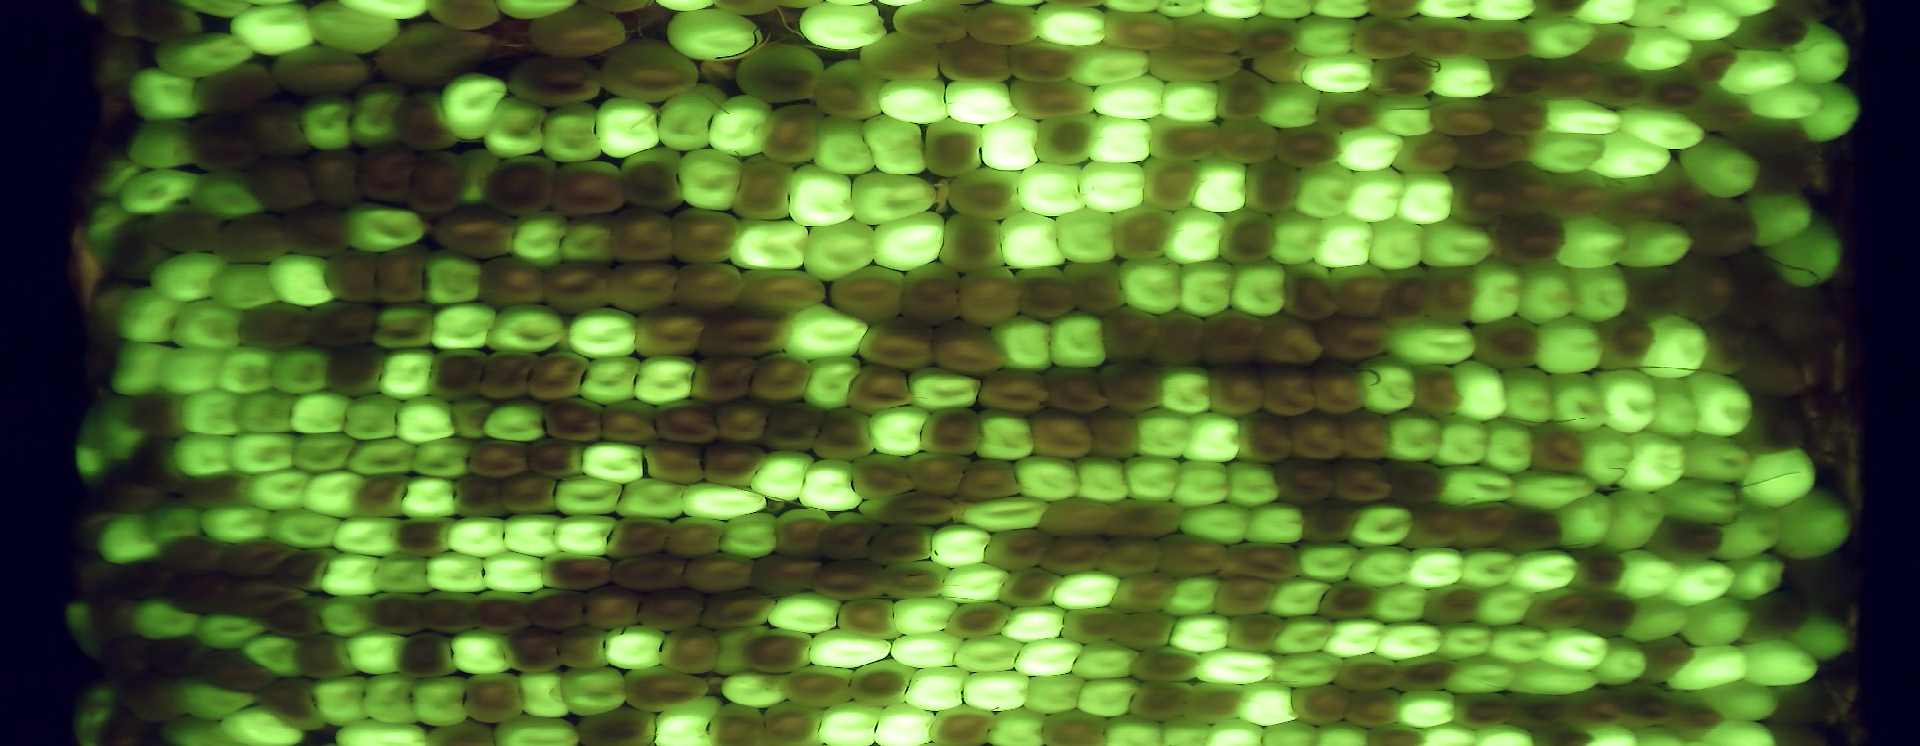fluorescent: (1767, 484, 1855, 567), (1766, 206, 1847, 294), (665, 5, 775, 67), (438, 64, 516, 151), (1734, 441, 1824, 512), (651, 75, 729, 158), (1678, 132, 1764, 206), (776, 299, 869, 367), (225, 1, 329, 62), (1706, 494, 1795, 565), (148, 23, 257, 81), (300, 1, 409, 59), (336, 197, 433, 258), (849, 167, 940, 230), (726, 212, 818, 276), (121, 62, 211, 127), (866, 207, 951, 274), (143, 246, 238, 307), (1596, 484, 1675, 556), (793, 1, 894, 58), (798, 218, 887, 282), (1527, 310, 1610, 377), (673, 145, 749, 218), (342, 78, 414, 156), (1611, 100, 1712, 156), (1633, 314, 1716, 381), (781, 160, 860, 230), (416, 243, 492, 314), (1682, 370, 1761, 439), (1513, 250, 1582, 328), (1464, 247, 1529, 330), (986, 307, 1060, 379), (593, 91, 669, 160), (164, 670, 264, 723), (1063, 39, 1161, 93), (1385, 314, 1483, 367), (113, 163, 206, 219), (538, 96, 609, 169), (62, 397, 118, 491), (940, 73, 1029, 132), (1551, 211, 1636, 272), (708, 89, 779, 162), (1158, 198, 1231, 269), (860, 111, 933, 181), (996, 205, 1069, 274), (1584, 129, 1678, 184), (873, 69, 955, 131), (1613, 216, 1700, 274), (111, 283, 189, 349), (1505, 467, 1604, 518), (562, 303, 643, 365), (1044, 301, 1116, 372), (481, 92, 553, 162), (1593, 364, 1660, 439), (1116, 250, 1191, 316), (1785, 13, 1851, 89), (262, 247, 340, 311), (185, 164, 269, 223), (1714, 44, 1802, 100), (811, 109, 880, 180), (1073, 156, 1153, 217), (1051, 207, 1127, 272), (1665, 639, 1755, 695), (80, 191, 140, 273), (122, 111, 204, 171), (1616, 428, 1693, 491), (165, 296, 249, 355), (53, 597, 114, 676), (504, 207, 577, 274), (804, 626, 904, 675), (1084, 71, 1176, 124), (87, 390, 151, 465), (1675, 429, 1761, 485), (1015, 159, 1093, 220), (790, 454, 868, 516), (204, 258, 288, 316), (1351, 352, 1423, 418), (1740, 635, 1820, 695), (107, 334, 178, 401), (973, 111, 1046, 176), (1287, 159, 1359, 224), (256, 503, 349, 554), (1798, 78, 1866, 146), (676, 479, 775, 526), (1567, 255, 1633, 325), (1189, 148, 1255, 218), (1680, 595, 1758, 654), (958, 490, 1056, 537), (1640, 374, 1708, 440), (1496, 363, 1562, 431), (485, 304, 571, 356), (1299, 45, 1385, 98), (1741, 187, 1815, 249), (645, 692, 729, 746), (1418, 219, 1501, 273), (1522, 127, 1609, 179), (153, 341, 229, 399), (295, 467, 371, 526), (294, 89, 360, 157), (1543, 369, 1609, 436), (216, 698, 309, 746), (193, 499, 284, 548), (1429, 461, 1520, 510), (969, 403, 1040, 465), (556, 663, 634, 719), (862, 402, 936, 462), (223, 383, 302, 439), (1506, 657, 1605, 701), (798, 349, 866, 414), (1450, 356, 1515, 424), (1662, 479, 1749, 529), (747, 445, 818, 506), (1173, 497, 1255, 550), (92, 510, 165, 568), (137, 495, 211, 554), (1611, 545, 1685, 604), (235, 628, 310, 686), (1130, 402, 1196, 467), (1313, 209, 1379, 274), (1068, 448, 1135, 512), (372, 341, 440, 404), (1429, 409, 1498, 472), (629, 350, 705, 407), (1620, 594, 1696, 650), (1536, 94, 1630, 140), (187, 609, 277, 657), (1029, 2, 1116, 51), (369, 299, 446, 354), (220, 429, 305, 479), (1010, 450, 1089, 503), (1342, 164, 1407, 229), (1578, 421, 1642, 488), (425, 298, 500, 354), (1550, 490, 1618, 552), (1381, 407, 1450, 468), (1262, 208, 1331, 269), (1172, 258, 1240, 320), (555, 209, 624, 269), (175, 383, 251, 439), (1331, 122, 1414, 173), (284, 383, 355, 442), (613, 472, 691, 526), (1505, 543, 1582, 597), (1698, 677, 1783, 726), (595, 620, 673, 673), (1081, 111, 1156, 167), (405, 670, 475, 729), (264, 341, 336, 398), (902, 366, 986, 415), (936, 559, 1016, 609), (1227, 258, 1292, 321), (1347, 497, 1420, 552), (718, 668, 802, 715), (209, 341, 278, 399), (359, 673, 429, 730), (1176, 409, 1247, 465), (1190, 644, 1281, 688), (125, 597, 208, 644), (1392, 167, 1457, 228), (765, 588, 846, 637), (444, 627, 518, 681), (1293, 537, 1367, 590), (947, 632, 1033, 677), (576, 352, 645, 408), (239, 463, 315, 514), (84, 149, 148, 211), (1047, 566, 1127, 615), (1254, 77, 1326, 131), (885, 592, 969, 638), (287, 428, 364, 478), (1287, 10, 1364, 60), (305, 673, 375, 728), (550, 472, 628, 521), (924, 519, 996, 573), (489, 704, 580, 746), (500, 508, 567, 565), (711, 508, 785, 560), (480, 396, 553, 447), (1391, 684, 1464, 735), (447, 140, 501, 209), (1164, 458, 1234, 512), (1540, 624, 1615, 674), (1155, 359, 1216, 420), (709, 619, 771, 679), (1155, 76, 1226, 129), (1167, 608, 1238, 660), (1364, 216, 1429, 273), (340, 432, 422, 478), (1747, 78, 1829, 124), (576, 436, 648, 488), (1370, 89, 1442, 141), (1425, 50, 1498, 102), (316, 548, 384, 601), (1670, 559, 1739, 612), (1265, 573, 1338, 624), (1240, 499, 1314, 549), (389, 392, 460, 443), (1119, 451, 1187, 505), (476, 549, 552, 597), (1664, 1, 1749, 44), (1344, 540, 1418, 589), (165, 428, 235, 479), (1073, 673, 1142, 724), (899, 661, 970, 712), (814, 696, 885, 746), (1233, 679, 1304, 729), (959, 668, 1037, 713), (1479, 416, 1539, 475), (1795, 609, 1856, 666), (324, 511, 398, 559), (1073, 638, 1142, 688), (1444, 654, 1521, 699), (550, 510, 621, 559), (339, 391, 407, 442), (1373, 619, 1451, 663), (313, 590, 382, 641), (327, 714, 435, 746), (405, 432, 475, 481), (342, 626, 407, 679), (887, 628, 966, 671), (1487, 619, 1558, 666), (444, 513, 517, 560), (1728, 549, 1791, 601), (156, 707, 240, 746), (1224, 454, 1281, 513), (871, 699, 942, 746), (396, 472, 463, 521), (1367, 579, 1434, 628), (1161, 570, 1224, 621), (421, 549, 490, 597), (1014, 635, 1086, 680), (1272, 648, 1351, 690), (369, 549, 433, 599), (1271, 612, 1342, 658), (1403, 545, 1472, 592), (514, 666, 573, 720), (1592, 635, 1651, 688), (980, 706, 1057, 746), (998, 603, 1069, 646), (1455, 546, 1523, 590), (58, 698, 120, 746), (1435, 616, 1498, 663), (1021, 671, 1089, 714), (1476, 583, 1536, 631), (1698, 715, 1789, 746), (1322, 616, 1385, 660), (1100, 712, 1173, 746), (1198, 714, 1271, 746), (444, 397, 493, 443), (1565, 1, 1644, 29), (1622, 1, 1697, 29), (1307, 717, 1374, 746), (1156, 713, 1215, 746), (1258, 718, 1325, 746), (69, 680, 126, 709), (1464, 1, 1540, 23), (1411, 1, 1479, 21)
nonfluorescent: (371, 17, 503, 96), (595, 39, 705, 110), (1760, 271, 1848, 359), (732, 37, 835, 110), (1779, 548, 1872, 622), (262, 40, 375, 102), (1727, 383, 1816, 461), (504, 50, 609, 115), (524, 2, 633, 64), (687, 304, 800, 361), (850, 312, 945, 380), (615, 140, 696, 218), (824, 258, 915, 328), (808, 53, 894, 126), (422, 198, 520, 262), (1667, 251, 1745, 330), (931, 206, 1015, 278), (180, 109, 267, 179), (1680, 191, 1767, 261), (893, 255, 971, 332), (396, 145, 476, 219), (478, 149, 562, 219), (924, 314, 1011, 381), (725, 149, 800, 228), (1735, 576, 1813, 649), (546, 154, 633, 220), (727, 265, 834, 318), (535, 255, 621, 321), (756, 92, 828, 170), (187, 59, 282, 119), (662, 201, 744, 269), (624, 301, 713, 365), (858, 26, 948, 88), (618, 661, 715, 719), (118, 431, 200, 499), (1730, 330, 1812, 397), (599, 256, 687, 318), (389, 86, 464, 159), (241, 89, 313, 165), (951, 260, 1029, 331), (604, 198, 684, 266), (204, 209, 299, 267), (1142, 107, 1231, 168), (80, 456, 171, 514), (300, 292, 384, 355), (471, 249, 550, 317), (945, 163, 1031, 225), (234, 296, 320, 359), (1005, 70, 1102, 125), (240, 152, 323, 216), (1109, 200, 1185, 269), (1198, 303, 1273, 372), (1142, 38, 1245, 89), (1026, 109, 1109, 171), (1053, 256, 1136, 318), (110, 669, 195, 730), (1314, 309, 1398, 370), (853, 485, 967, 530), (1647, 511, 1736, 568), (839, 356, 921, 419), (1091, 356, 1173, 419), (1322, 258, 1400, 325), (1033, 359, 1117, 420), (802, 404, 885, 465), (369, 238, 440, 309), (1442, 160, 1516, 229), (1727, 247, 1788, 330), (351, 134, 418, 209), (1007, 262, 1084, 327), (1493, 203, 1570, 268), (972, 364, 1059, 421), (316, 336, 394, 399), (1212, 537, 1307, 589), (1096, 1, 1188, 55), (1022, 401, 1098, 465), (255, 673, 331, 737), (669, 258, 752, 317), (105, 218, 178, 285), (520, 343, 593, 410), (456, 666, 531, 730), (1731, 110, 1817, 167), (1005, 31, 1087, 89), (118, 385, 195, 447), (681, 349, 760, 409), (933, 33, 1018, 89), (278, 198, 353, 262), (1147, 530, 1236, 584), (913, 401, 992, 461), (302, 145, 373, 211), (143, 202, 227, 258), (1095, 303, 1167, 367), (1255, 306, 1327, 371), (1542, 163, 1615, 227), (1100, 495, 1193, 545), (692, 582, 782, 633), (62, 137, 115, 225), (1469, 314, 1547, 374), (896, 447, 982, 501), (216, 575, 315, 621), (422, 341, 493, 405), (76, 273, 135, 352), (1135, 152, 1207, 216), (1615, 258, 1687, 322), (165, 570, 249, 625), (655, 619, 729, 681), (1344, 11, 1428, 66), (1762, 677, 1845, 733), (645, 394, 726, 451), (811, 552, 891, 609), (1482, 91, 1562, 147), (1280, 258, 1346, 327), (1417, 260, 1482, 330), (1523, 416, 1594, 480), (744, 548, 830, 600), (1449, 492, 1522, 554), (566, 702, 667, 746), (495, 621, 571, 680), (744, 344, 812, 410), (916, 116, 986, 180), (1202, 358, 1272, 421), (1253, 359, 1322, 423), (1480, 44, 1558, 102), (1723, 5, 1811, 55), (1589, 311, 1662, 372), (193, 646, 283, 695), (102, 551, 178, 609), (1494, 157, 1562, 220), (1229, 408, 1300, 469), (636, 436, 713, 492), (287, 628, 364, 685), (741, 622, 818, 679), (1605, 679, 1682, 735), (470, 345, 542, 405), (58, 549, 130, 609), (631, 581, 709, 636), (1379, 456, 1452, 514), (1076, 405, 1151, 463), (321, 243, 387, 307), (680, 545, 759, 599), (1462, 13, 1542, 67), (1147, 306, 1215, 370), (769, 502, 838, 565), (696, 435, 771, 491), (601, 510, 677, 566), (1033, 494, 1125, 540), (1329, 452, 1398, 513), (1660, 684, 1731, 744), (1600, 171, 1671, 232), (609, 548, 696, 597), (84, 630, 157, 688), (1583, 59, 1657, 116), (977, 523, 1059, 575), (775, 663, 863, 710), (1215, 205, 1281, 268), (1648, 159, 1712, 225), (1283, 404, 1351, 467), (1375, 265, 1442, 327), (1685, 82, 1755, 142), (340, 468, 416, 523), (359, 586, 435, 641), (845, 657, 921, 712), (144, 631, 220, 686), (1367, 49, 1442, 104), (1558, 681, 1633, 736), (154, 530, 244, 577), (594, 394, 666, 452), (538, 392, 610, 450), (1453, 127, 1538, 176), (1499, 502, 1572, 559), (60, 496, 124, 561), (1240, 156, 1305, 219), (1307, 356, 1371, 420), (1403, 9, 1482, 61), (1518, 584, 1600, 635), (956, 1, 1044, 48), (174, 465, 260, 513), (1211, 115, 1287, 169), (1269, 120, 1344, 174), (1397, 497, 1469, 554), (460, 430, 538, 483), (844, 450, 921, 502), (1696, 314, 1756, 381), (891, 1, 976, 49), (464, 588, 542, 639), (414, 586, 489, 639), (1177, 677, 1251, 731), (1633, 61, 1708, 115), (538, 548, 620, 597), (812, 506, 882, 563), (518, 586, 598, 636), (1335, 405, 1400, 467), (862, 518, 939, 570), (759, 399, 827, 458), (1536, 53, 1609, 107), (1566, 540, 1635, 598), (262, 541, 337, 594), (1124, 639, 1209, 686), (707, 394, 778, 450), (393, 628, 464, 684), (1269, 454, 1340, 510), (1502, 684, 1578, 735), (1124, 676, 1204, 725), (1332, 649, 1409, 699), (876, 555, 956, 603), (1425, 93, 1500, 145), (951, 456, 1030, 505), (213, 537, 302, 579), (1284, 677, 1356, 731), (84, 32, 144, 96), (1411, 361, 1469, 426), (251, 597, 331, 644), (1168, 9, 1248, 56), (658, 513, 735, 562), (1580, 587, 1648, 642), (578, 579, 648, 633), (1416, 577, 1485, 631), (1335, 682, 1409, 733), (1385, 649, 1463, 697), (76, 314, 125, 390), (1092, 532, 1168, 581), (833, 594, 909, 643), (1296, 492, 1363, 548), (1209, 570, 1277, 624), (1310, 575, 1384, 625), (1308, 86, 1385, 134), (1236, 10, 1304, 62), (922, 701, 1002, 746), (1637, 628, 1697, 688), (996, 561, 1065, 612), (942, 597, 1019, 643), (1575, 17, 1644, 69), (81, 589, 144, 646), (1036, 532, 1112, 578), (495, 468, 563, 519), (1211, 69, 1280, 120), (127, 1, 207, 45), (1395, 129, 1464, 179), (384, 514, 462, 560), (552, 622, 615, 677), (759, 699, 833, 746), (699, 699, 773, 746), (1059, 603, 1131, 649), (520, 432, 589, 481), (1447, 688, 1523, 733), (1678, 29, 1738, 85), (1111, 608, 1182, 654), (1109, 570, 1184, 614), (444, 470, 509, 521), (1033, 708, 1118, 746), (1221, 610, 1284, 659), (420, 1, 504, 38), (88, 78, 131, 149), (1250, 45, 1315, 88), (93, 1, 144, 40), (1358, 719, 1433, 746)
